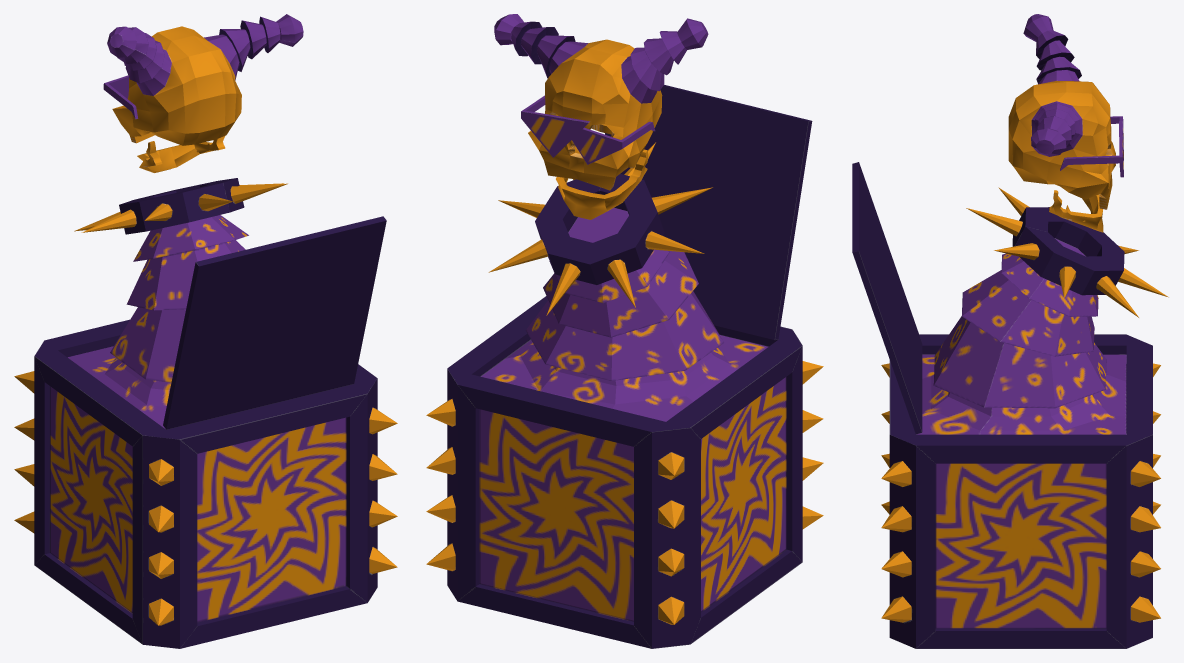
The model's file is jack_in_the_box.fbx.
3 views of the same model, side by side, from view 1: azimuth 30°, elevation 25°; view 2: azimuth 150°, elevation 25°; view 3: azimuth 270°, elevation 25° (orthographic). The views are drawn at different scales.
Parts seen in each view (by area): view 1: Box, skull_top, skull_bot, Glasses; view 2: Box, skull_top, Glasses, skull_bot; view 3: Box, skull_top, skull_bot, Glasses.
Part boxes in pixels (x1,y1,x2,y2): Box: (14, 178, 397, 648); skull_top: (107, 14, 303, 145); skull_bot: (137, 136, 225, 172); Glasses: (103, 75, 138, 119); Box: (426, 85, 823, 648); skull_top: (494, 14, 708, 190); Glasses: (521, 95, 655, 164); skull_bot: (556, 146, 648, 219); Box: (852, 162, 1168, 648); skull_top: (1008, 14, 1115, 209); skull_bot: (1049, 184, 1103, 232); Glasses: (1060, 116, 1123, 177).
Bounding box in the file's own units: 0.62 × 0.7313 × 1.38.
1 material, 1 textured.
